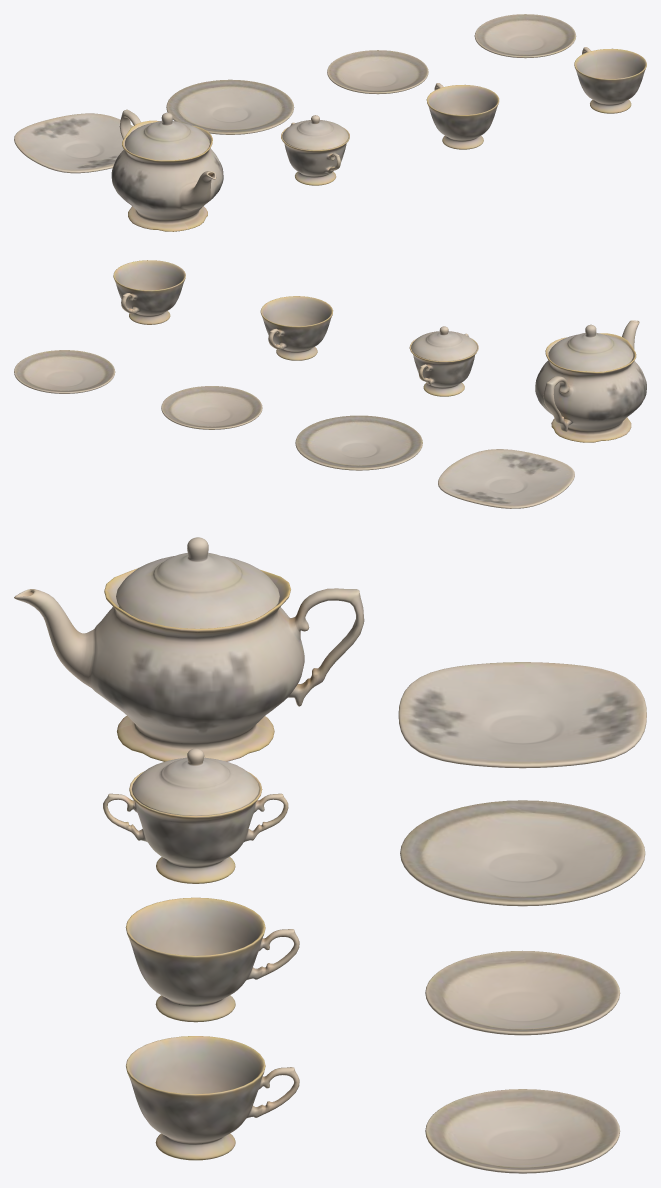
Rendered from tea_set_01.gltf.
3 views of the same model, one above another, from view 1: azimuth 30°, elevation 25°; view 2: azimuth 150°, elevation 25°; view 3: azimuth 270°, elevation 25° (orthographic). The views are drawn at different scales.
Visible parts, largest first — view 1: tea_set_01_teapot_01, tea_set_01_plate_large_circular_03, tea_set_01_plate_large_square_01, tea_set_01_cup_small_01, tea_set_01_cup_small_02, tea_set_01_saucer_circular_03, tea_set_01_saucer_circular_04, tea_set_01_teapot_01_lid, tea_set_01_sugar_cup_01, tea_set_01_sugar_cup_01_lid; view 2: tea_set_01_teapot_01, tea_set_01_plate_large_square_01, tea_set_01_plate_large_circular_03, tea_set_01_cup_small_01, tea_set_01_cup_small_02, tea_set_01_saucer_circular_04, tea_set_01_saucer_circular_03, tea_set_01_teapot_01_lid, tea_set_01_sugar_cup_01, tea_set_01_sugar_cup_01_lid; view 3: tea_set_01_teapot_01, tea_set_01_plate_large_square_01, tea_set_01_plate_large_circular_03, tea_set_01_cup_small_01, tea_set_01_cup_small_02, tea_set_01_saucer_circular_03, tea_set_01_saucer_circular_04, tea_set_01_teapot_01_lid, tea_set_01_sugar_cup_01, tea_set_01_sugar_cup_01_lid.
Part boxes in pixels (bbox=[...]): tea_set_01_teapot_01: bbox=[111, 109, 223, 231]; tea_set_01_plate_large_circular_03: bbox=[166, 79, 294, 134]; tea_set_01_plate_large_square_01: bbox=[14, 113, 133, 173]; tea_set_01_cup_small_01: bbox=[426, 83, 499, 149]; tea_set_01_cup_small_02: bbox=[574, 47, 646, 113]; tea_set_01_saucer_circular_03: bbox=[474, 14, 576, 58]; tea_set_01_saucer_circular_04: bbox=[327, 50, 428, 94]; tea_set_01_teapot_01_lid: bbox=[125, 112, 209, 160]; tea_set_01_sugar_cup_01: bbox=[281, 122, 349, 185]; tea_set_01_sugar_cup_01_lid: bbox=[282, 115, 348, 150]; tea_set_01_teapot_01: bbox=[535, 320, 646, 442]; tea_set_01_plate_large_square_01: bbox=[438, 449, 574, 508]; tea_set_01_plate_large_circular_03: bbox=[295, 415, 422, 470]; tea_set_01_cup_small_01: bbox=[260, 296, 333, 360]; tea_set_01_cup_small_02: bbox=[113, 260, 185, 324]; tea_set_01_saucer_circular_04: bbox=[161, 386, 262, 429]; tea_set_01_saucer_circular_03: bbox=[14, 350, 115, 393]; tea_set_01_teapot_01_lid: bbox=[548, 324, 633, 371]; tea_set_01_sugar_cup_01: bbox=[409, 333, 478, 396]; tea_set_01_sugar_cup_01_lid: bbox=[411, 326, 477, 361]; tea_set_01_teapot_01: bbox=[14, 568, 364, 761]; tea_set_01_plate_large_square_01: bbox=[398, 662, 646, 768]; tea_set_01_plate_large_circular_03: bbox=[400, 800, 645, 906]; tea_set_01_cup_small_01: bbox=[125, 897, 299, 1022]; tea_set_01_cup_small_02: bbox=[126, 1036, 299, 1160]; tea_set_01_saucer_circular_03: bbox=[425, 1089, 620, 1173]; tea_set_01_saucer_circular_04: bbox=[425, 950, 620, 1035]; tea_set_01_teapot_01_lid: bbox=[116, 537, 279, 628]; tea_set_01_sugar_cup_01: bbox=[103, 771, 288, 883]; tea_set_01_sugar_cup_01_lid: bbox=[131, 748, 259, 815].
Bounding box in the file's own units: 0.9185 × 0.165 × 0.4839.
1 material, 1 textured.
